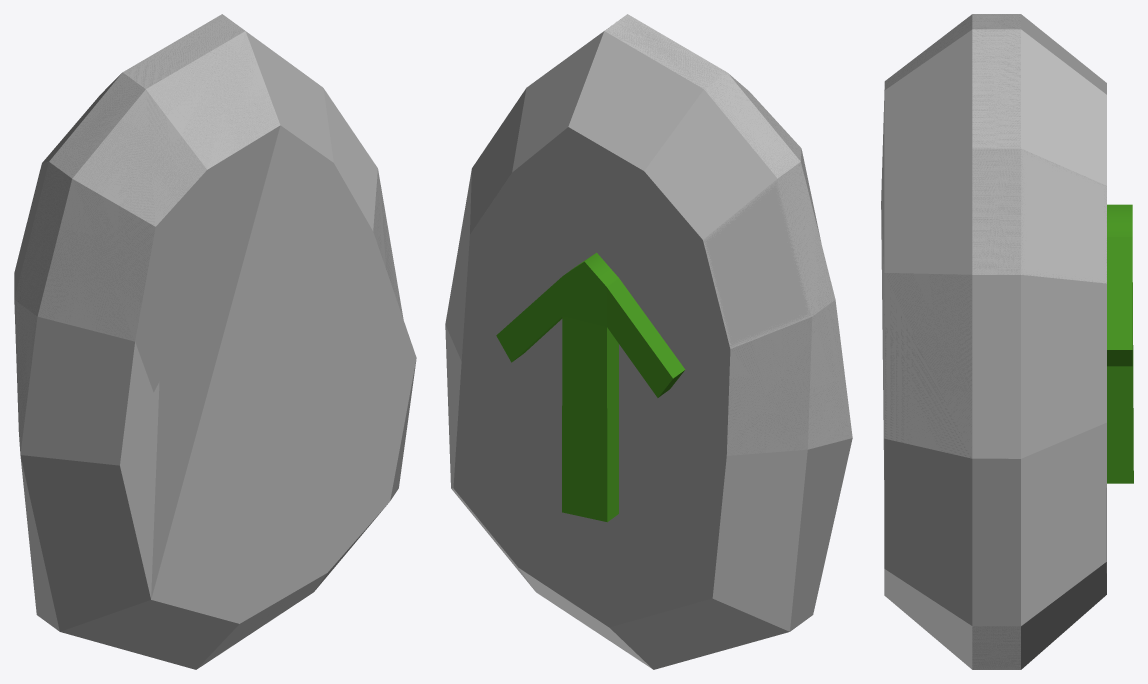
File: DashRune.fbx
3 renders of one model, left to right at view 1: azimuth 30°, elevation 25°; view 2: azimuth 150°, elevation 25°; view 3: azimuth 270°, elevation 25°, orthographic. The views are drawn at different scales.
Parts seen in each view (by area): view 1: polySurface3, polySurface4; view 2: polySurface4, polySurface3, polySurface2; view 3: polySurface3, polySurface4, polySurface2.
Part boxes in pixels (x1,y1,x2,y2): polySurface3: (14,14,416,668); polySurface4: (14,14,400,669); polySurface4: (451,14,852,669); polySurface3: (445,14,852,669); polySurface2: (496,252,685,522); polySurface3: (881,14,1106,669); polySurface4: (881,14,1106,669); polySurface2: (1107,204,1133,483).
Size of the model in its own units: 1.5 by 2.34 by 0.8164.
